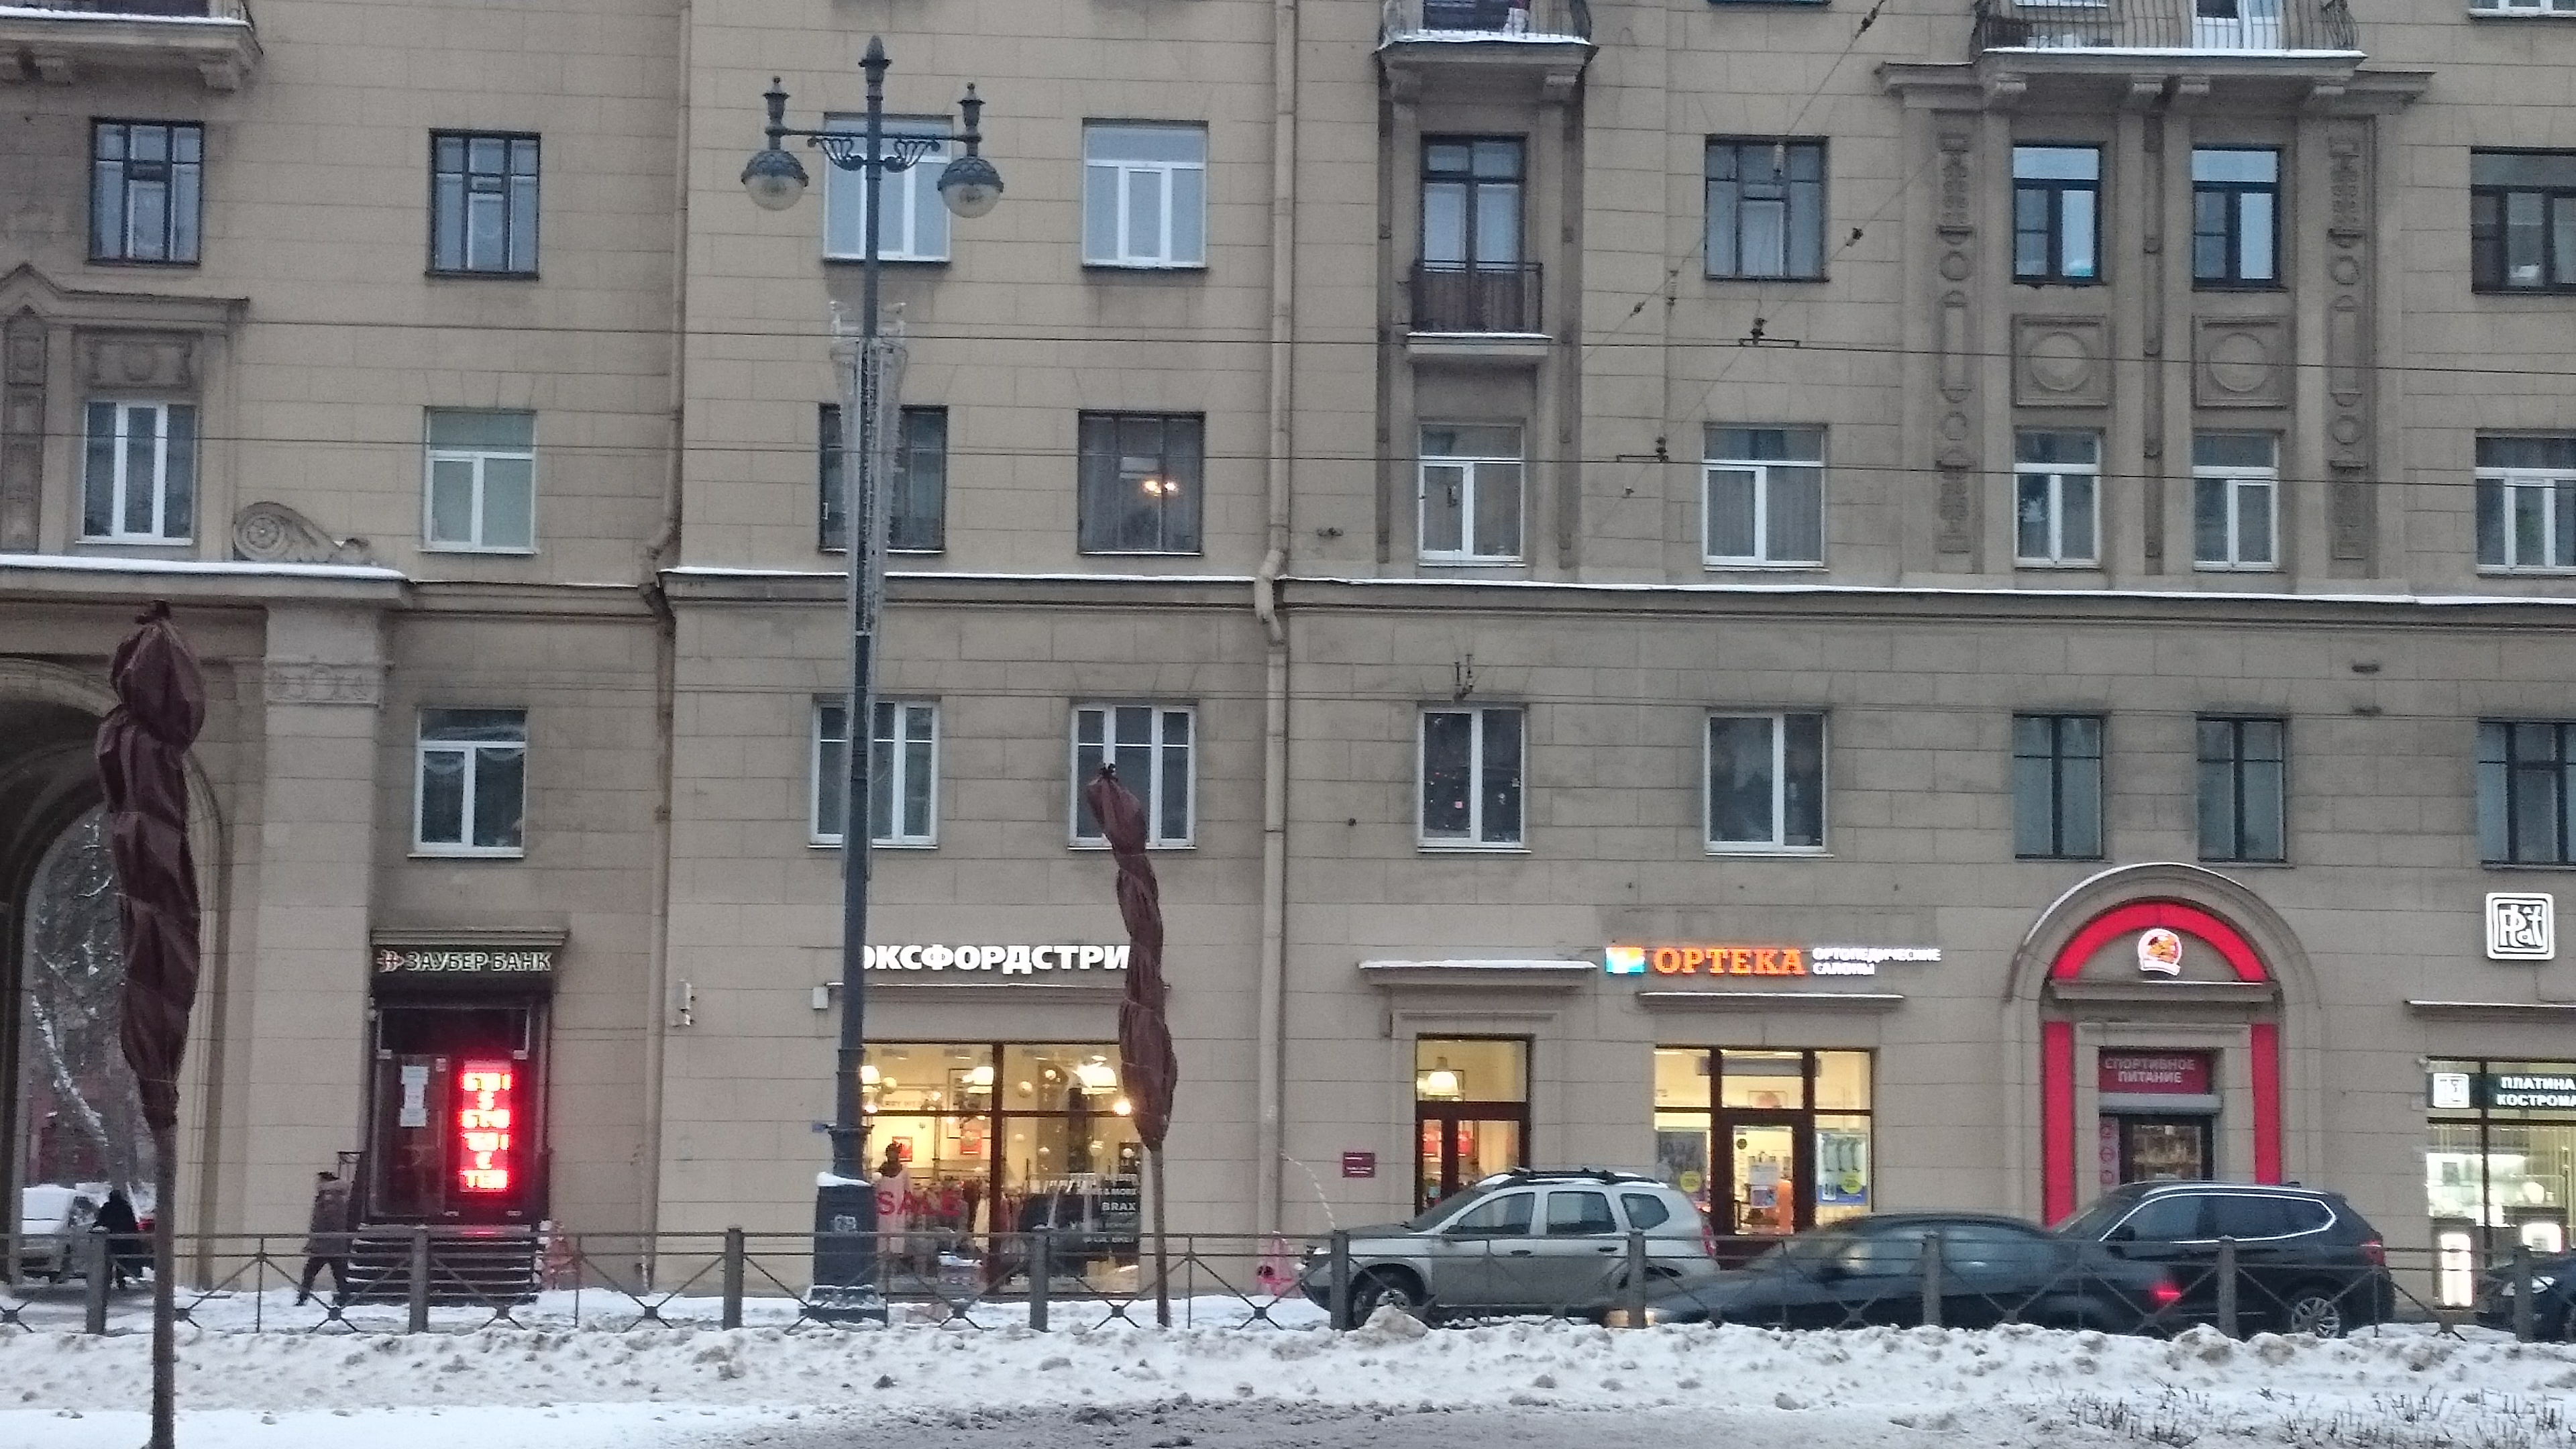signboard: (1599, 941, 1950, 984), (867, 943, 1123, 973), (2479, 886, 2558, 964), (370, 947, 554, 977), (2127, 920, 2196, 973)
window: (858, 1047, 1143, 1276), (1654, 1058, 1868, 1215), (1074, 108, 1207, 280), (805, 686, 938, 853), (1415, 142, 1527, 331), (1065, 697, 1196, 853), (830, 108, 952, 269), (1704, 414, 1824, 573), (1074, 409, 1203, 556), (423, 403, 541, 554), (1709, 711, 1833, 853), (426, 133, 545, 276), (87, 387, 195, 543), (1417, 699, 1527, 849), (92, 117, 205, 262), (1713, 147, 1833, 283), (1424, 414, 1527, 573), (419, 704, 525, 858), (2473, 428, 2576, 580), (2005, 421, 2104, 579), (2192, 134, 2288, 295), (2470, 145, 2576, 288), (2013, 142, 2111, 287), (2204, 718, 2293, 876), (2477, 731, 2576, 860), (2192, 426, 2279, 573), (2012, 711, 2097, 858)
